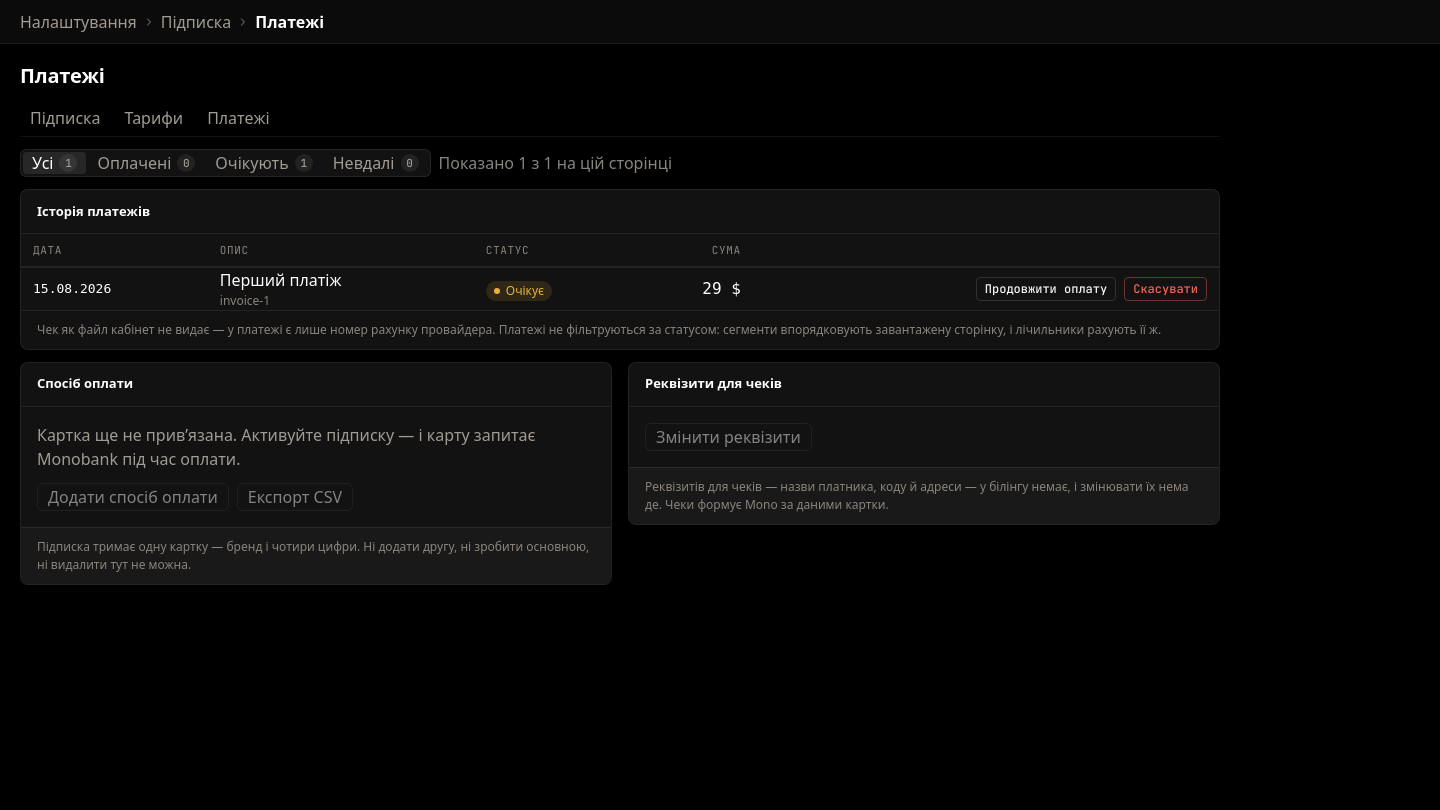
Test: prevents pending Mono payment cancellation after provider management changes
The width and height of the screenshot is (1440, 810).
Click the button "Скасувати".
click(1166, 288)  # box left=1124, top=276, right=1207, bottom=300
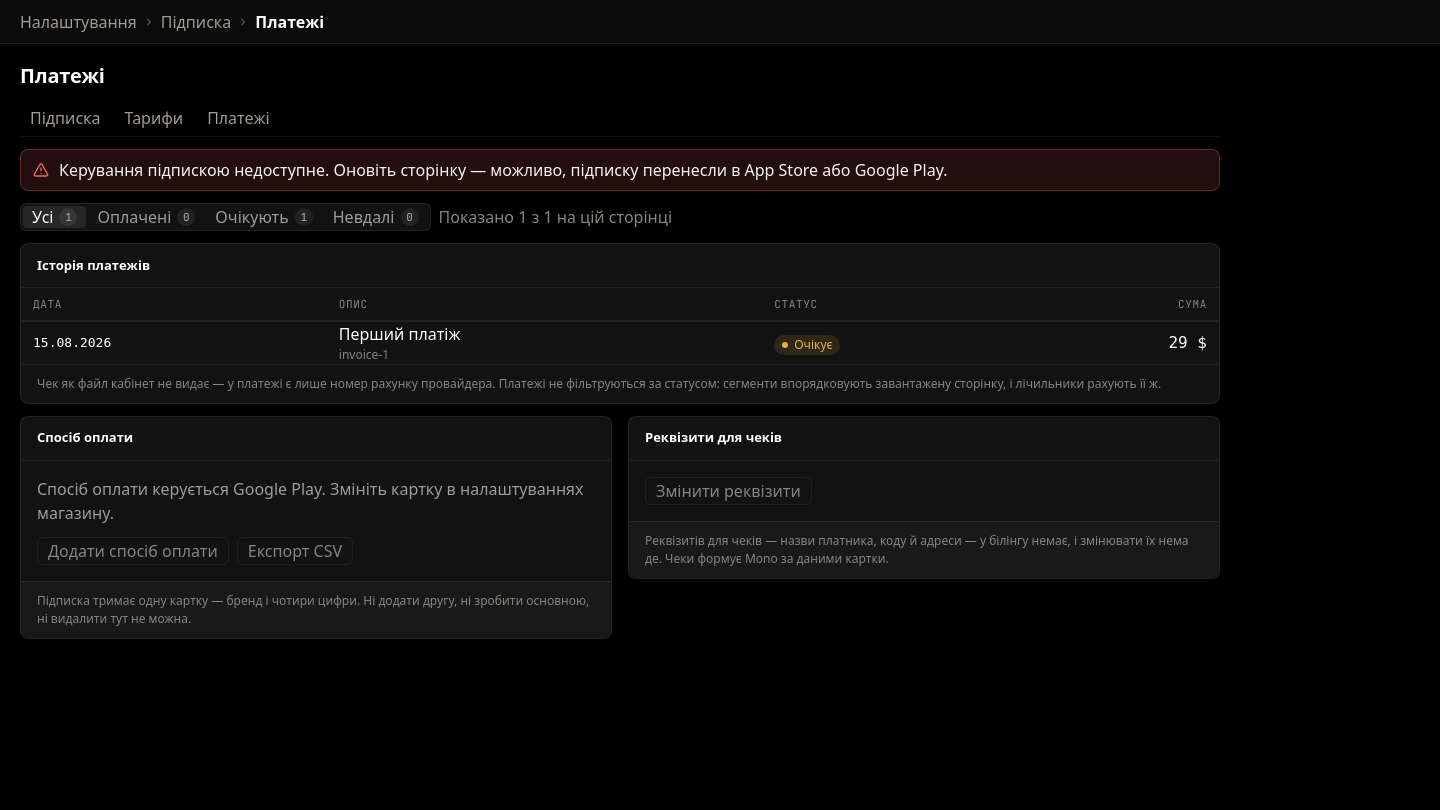
Expected: the message shows "Керування підпискою недоступне.", left=59, top=159, right=948, bottom=181
